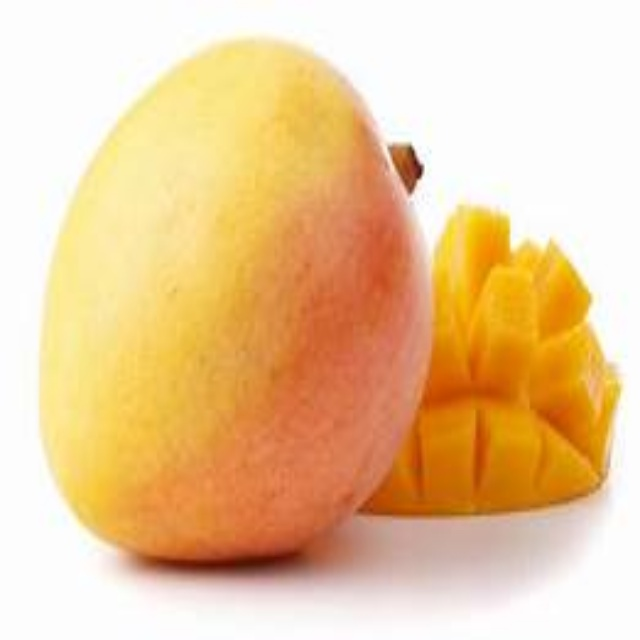mango: (41, 40, 437, 568)
